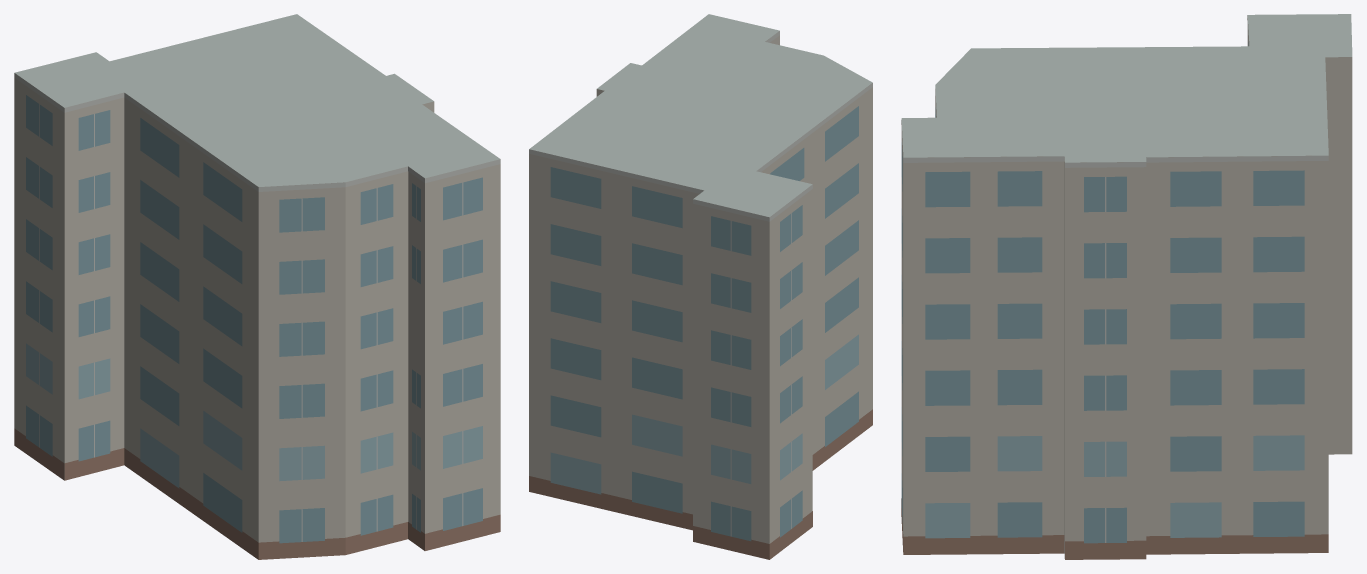
File: survey-upis-32667375.glb
3 renders of one model, left to right at view 1: azimuth 30°, elevation 25°; view 2: azimuth 150°, elevation 25°; view 3: azimuth 270°, elevation 25°, orthographic. The views are drawn at different scales.
Visible parts, largest first — view 1: survey-upis-32667375.tmp; view 2: survey-upis-32667375.tmp; view 3: survey-upis-32667375.tmp.
Boxes of the visible parts, bbox=[...] form: survey-upis-32667375.tmp: bbox=[14, 14, 500, 559]; survey-upis-32667375.tmp: bbox=[529, 14, 872, 559]; survey-upis-32667375.tmp: bbox=[901, 14, 1352, 559].
Size of the model in its own units: 14.77 by 18.4 by 18.94.
